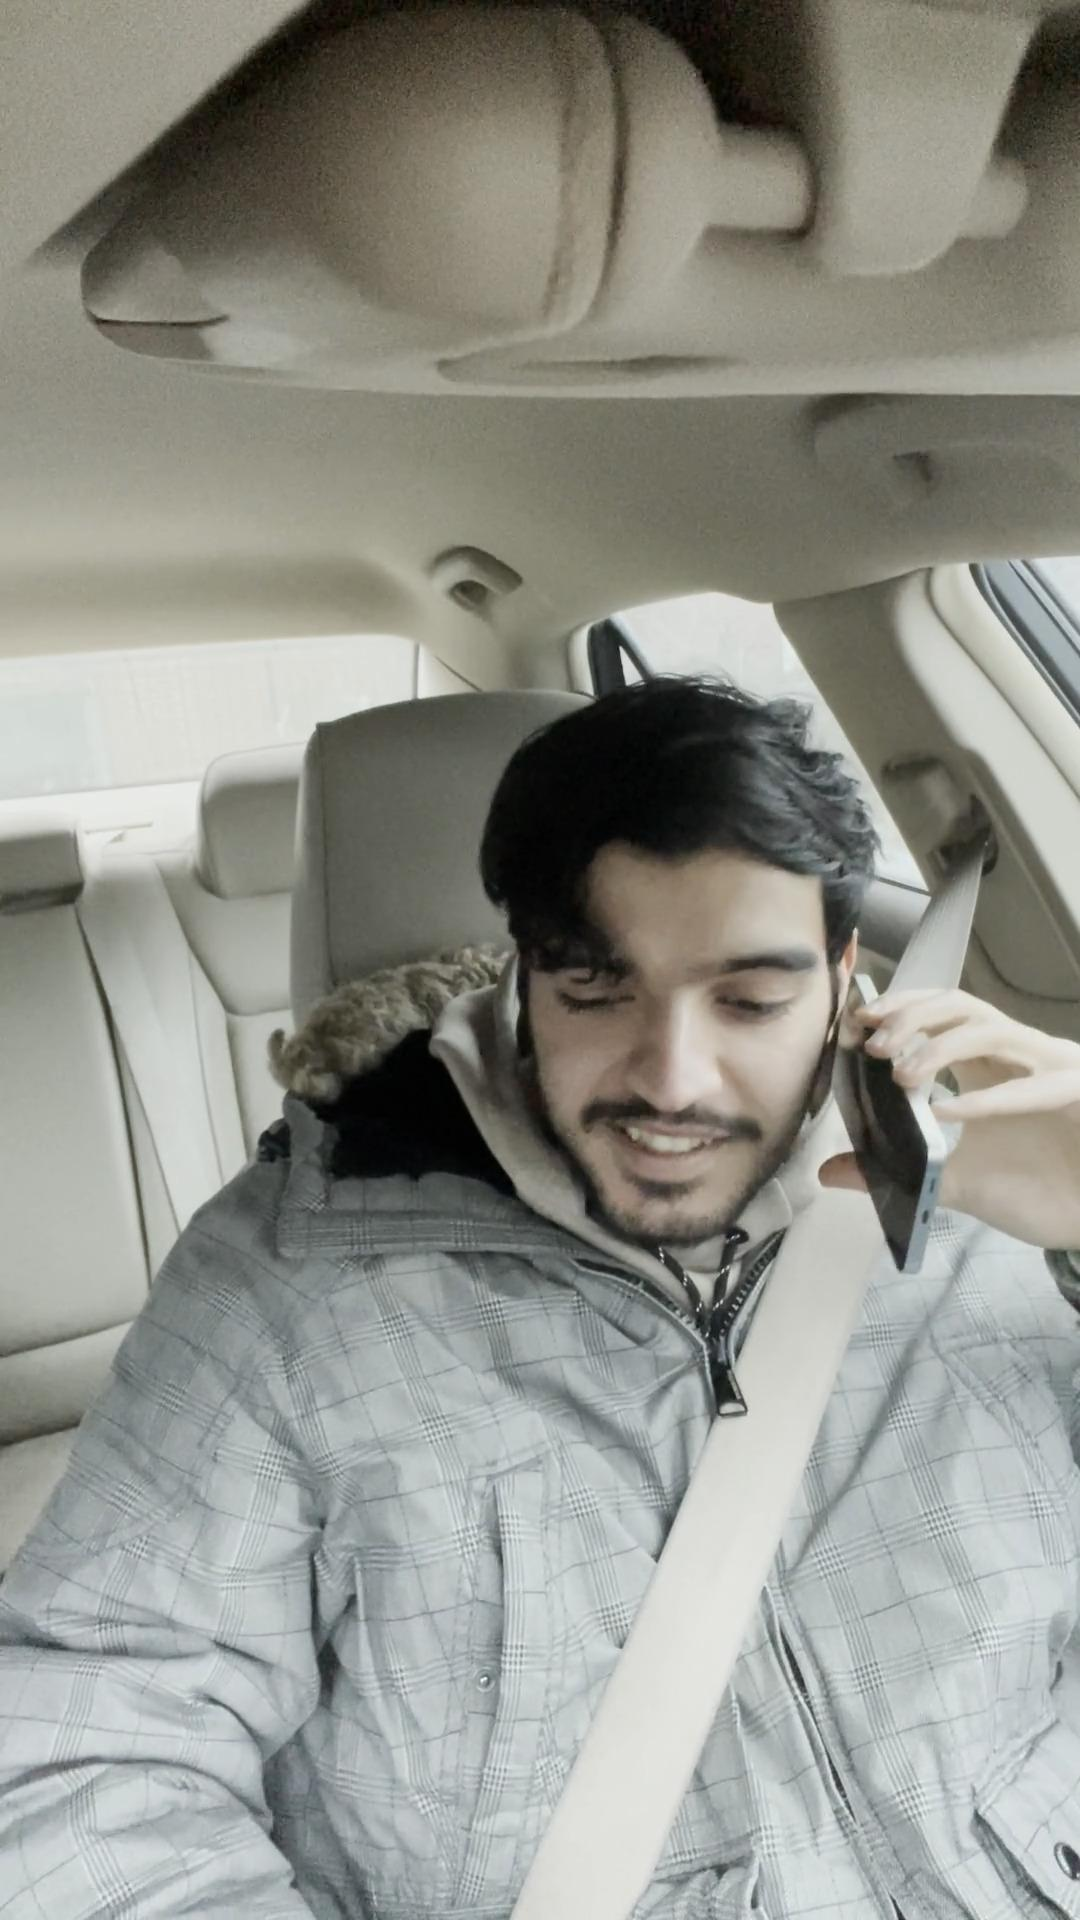mobile: (829, 955, 996, 1295)
